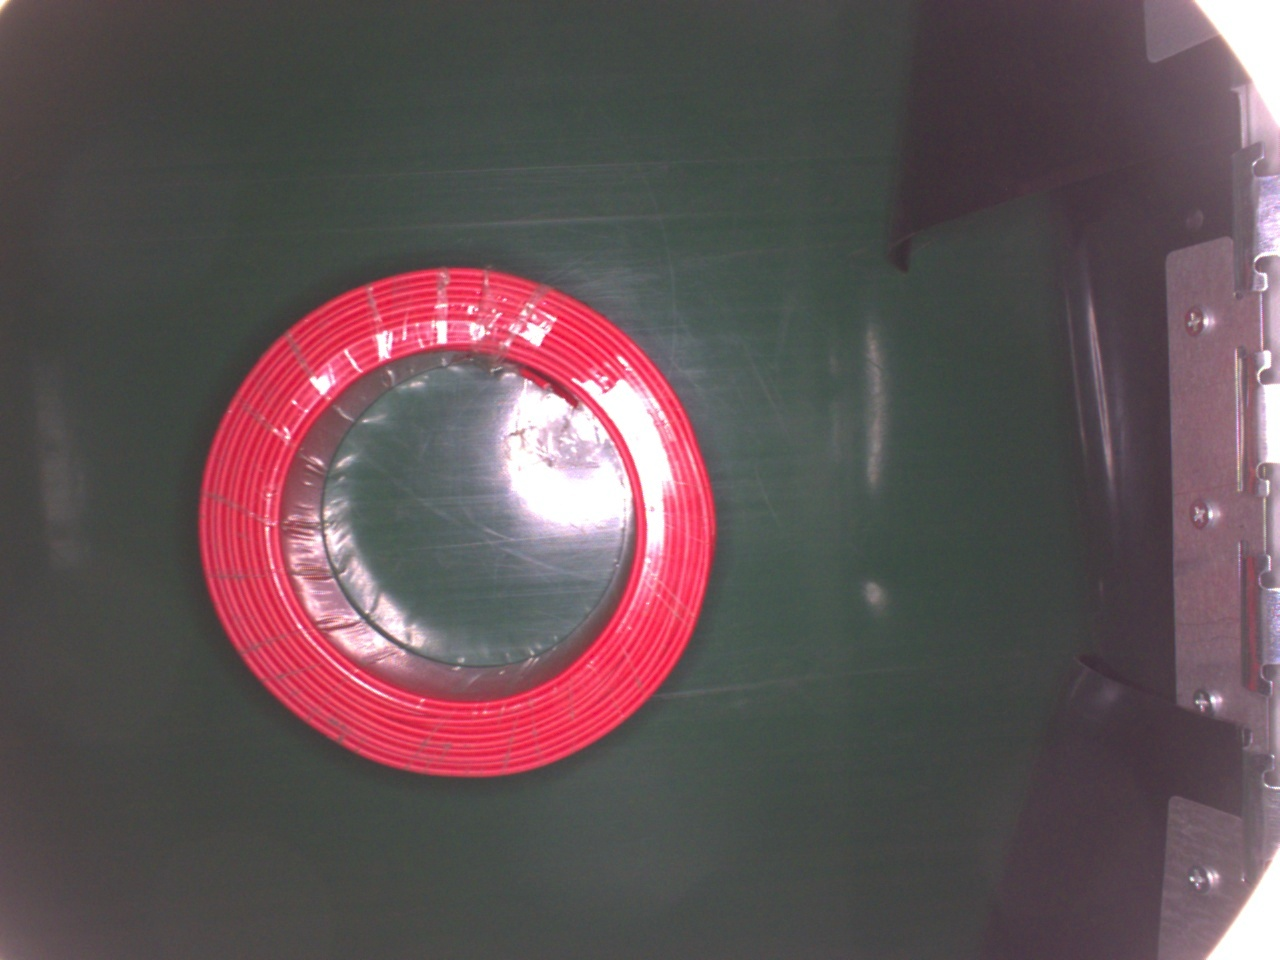red: (197, 259, 723, 781)
